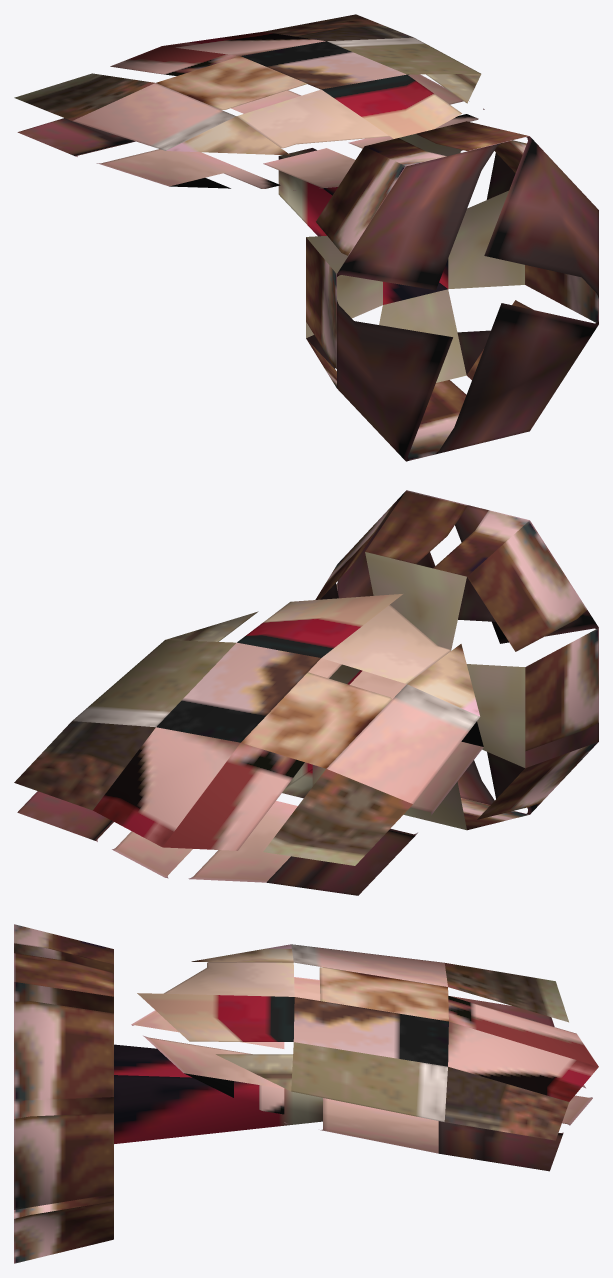
3 views of the same model, one above another, from view 1: azimuth 30°, elevation 25°; view 2: azimuth 150°, elevation 25°; view 3: azimuth 270°, elevation 25° (orthographic). The views are drawn at different scales.
Parts seen in each view (by area): view 1: T1L1M009_2; view 2: T1L1M009_2; view 3: T1L1M009_2.
Boxes of the visible parts, left/top/right/bottom form: T1L1M009_2: left=14, top=14, right=598, bottom=461; T1L1M009_2: left=14, top=490, right=598, bottom=895; T1L1M009_2: left=14, top=924, right=598, bottom=1263.
Size of the model in its own units: 0.4346 by 0.3584 by 0.6738.
